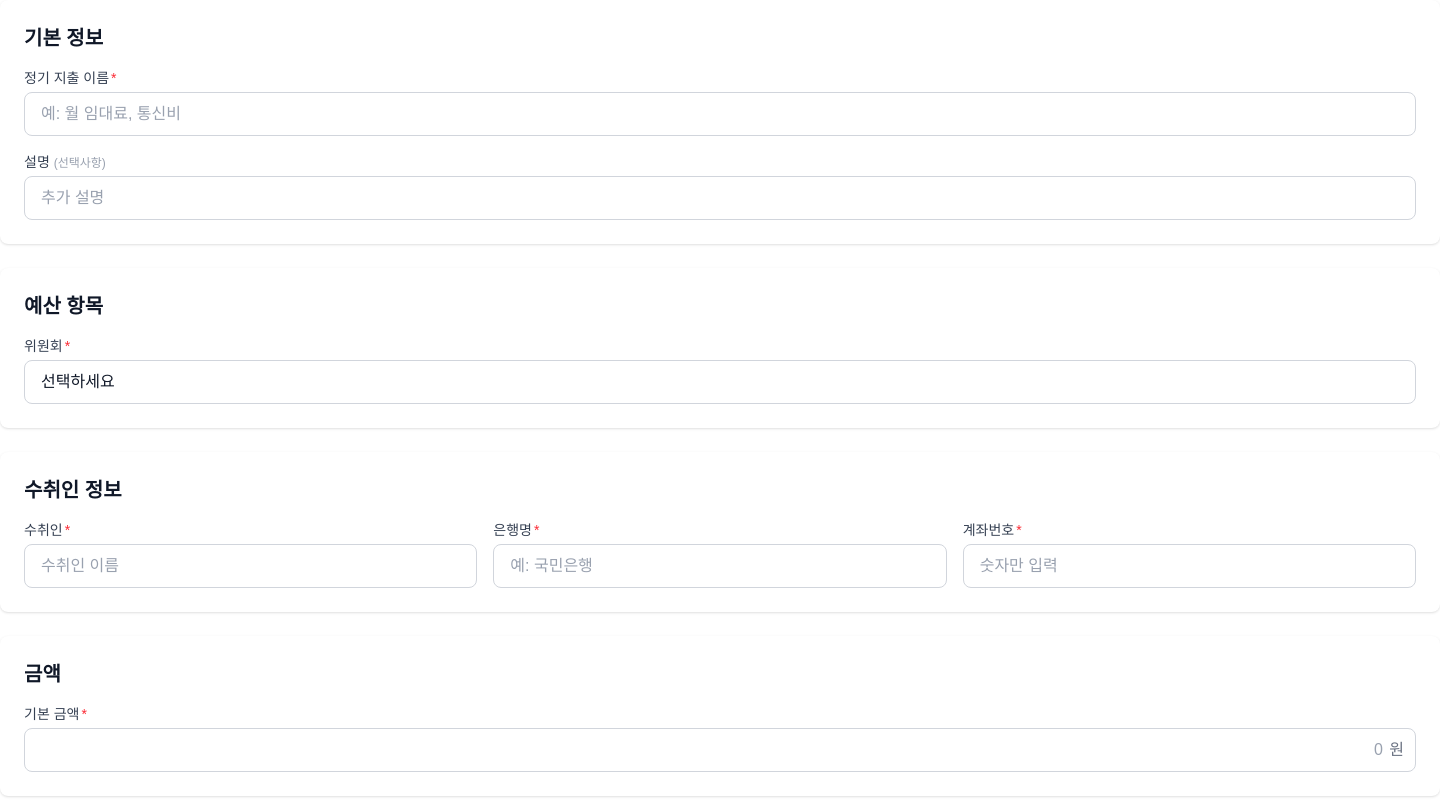
Scenario: RecurringExpenseForm › 금액 입력 › 비숫자 입력은 무시해야 함
This screenshot has width=1440, height=810.
Type "abc123def" into the field labelled "기본 금액" at (720, 750), box [24,728,1416,772]
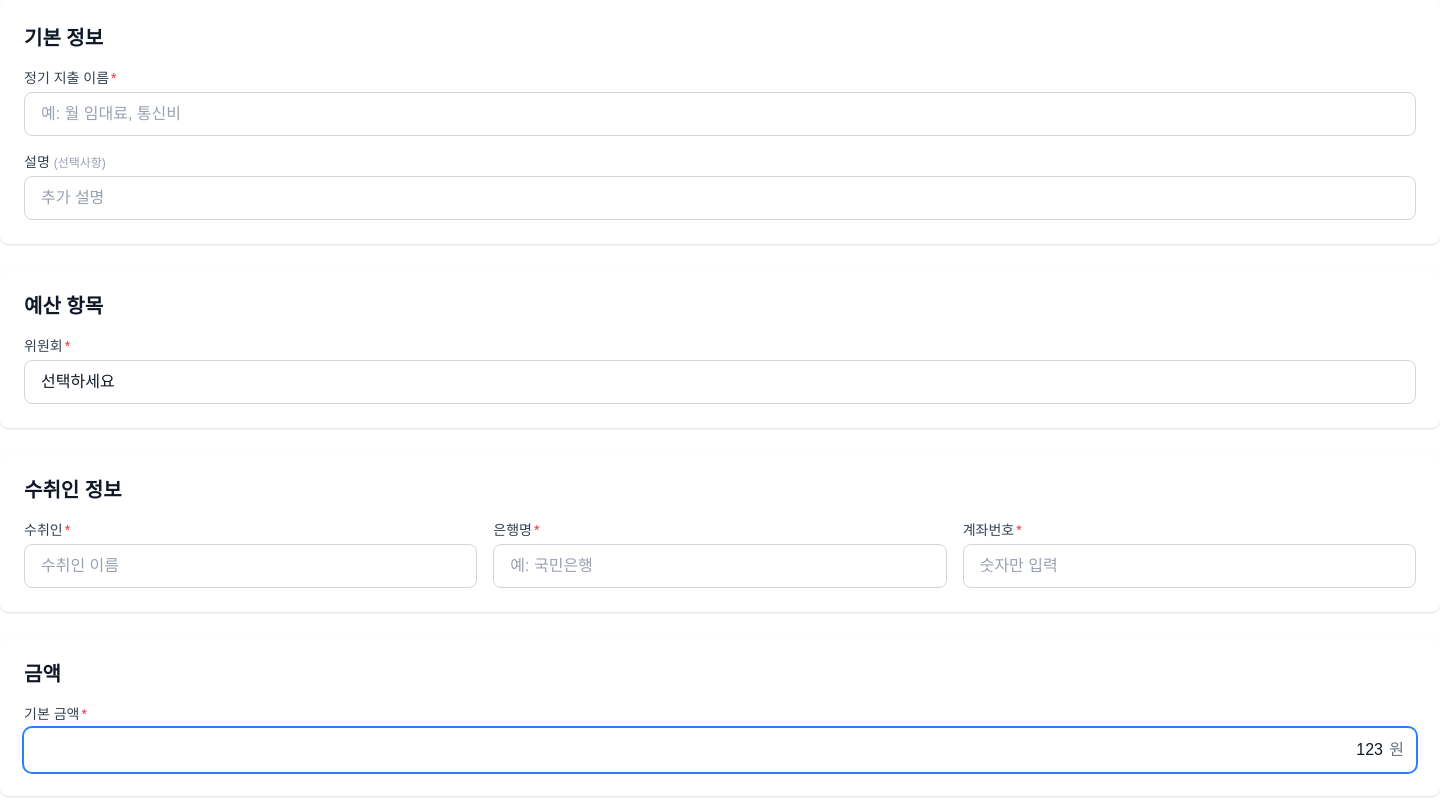
Check: the field labelled "기본 금액" holds "123", box [24,728,1416,772]
